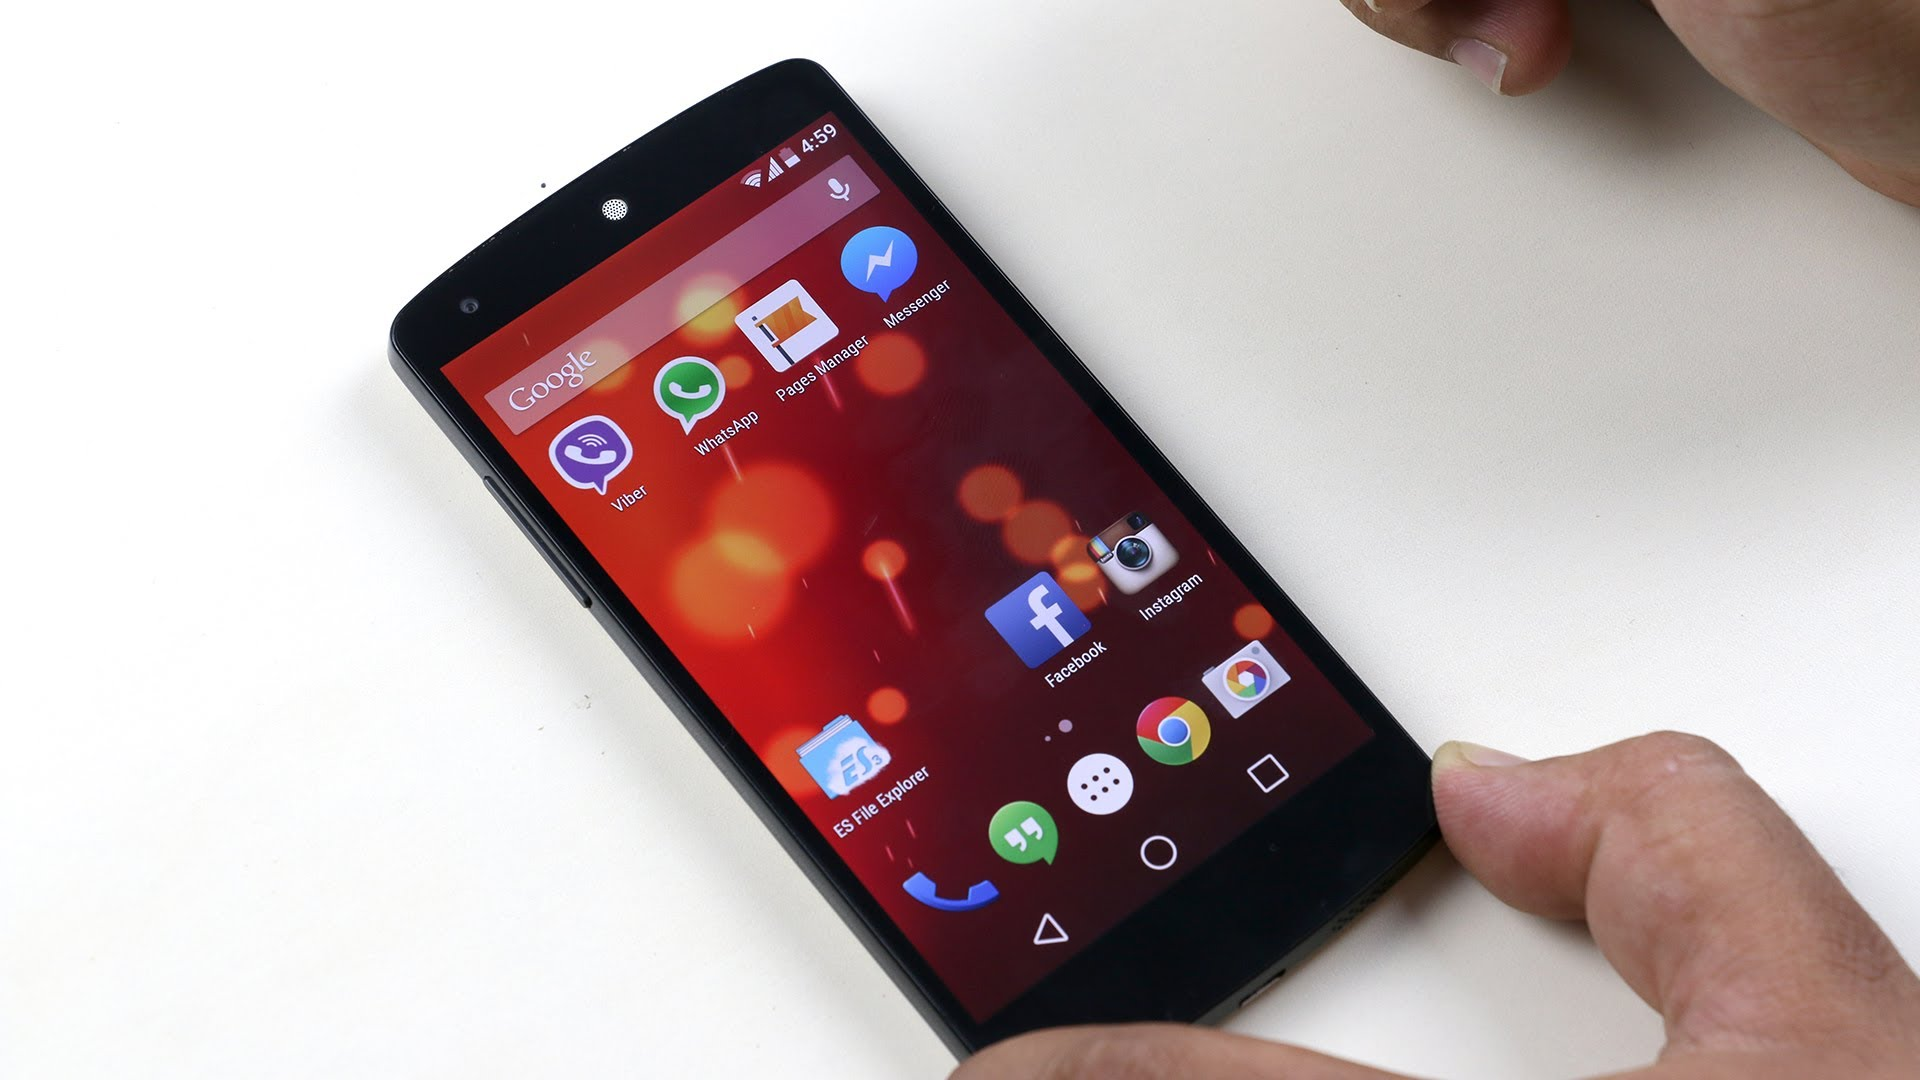smartphone: (386, 55, 1441, 1065)
